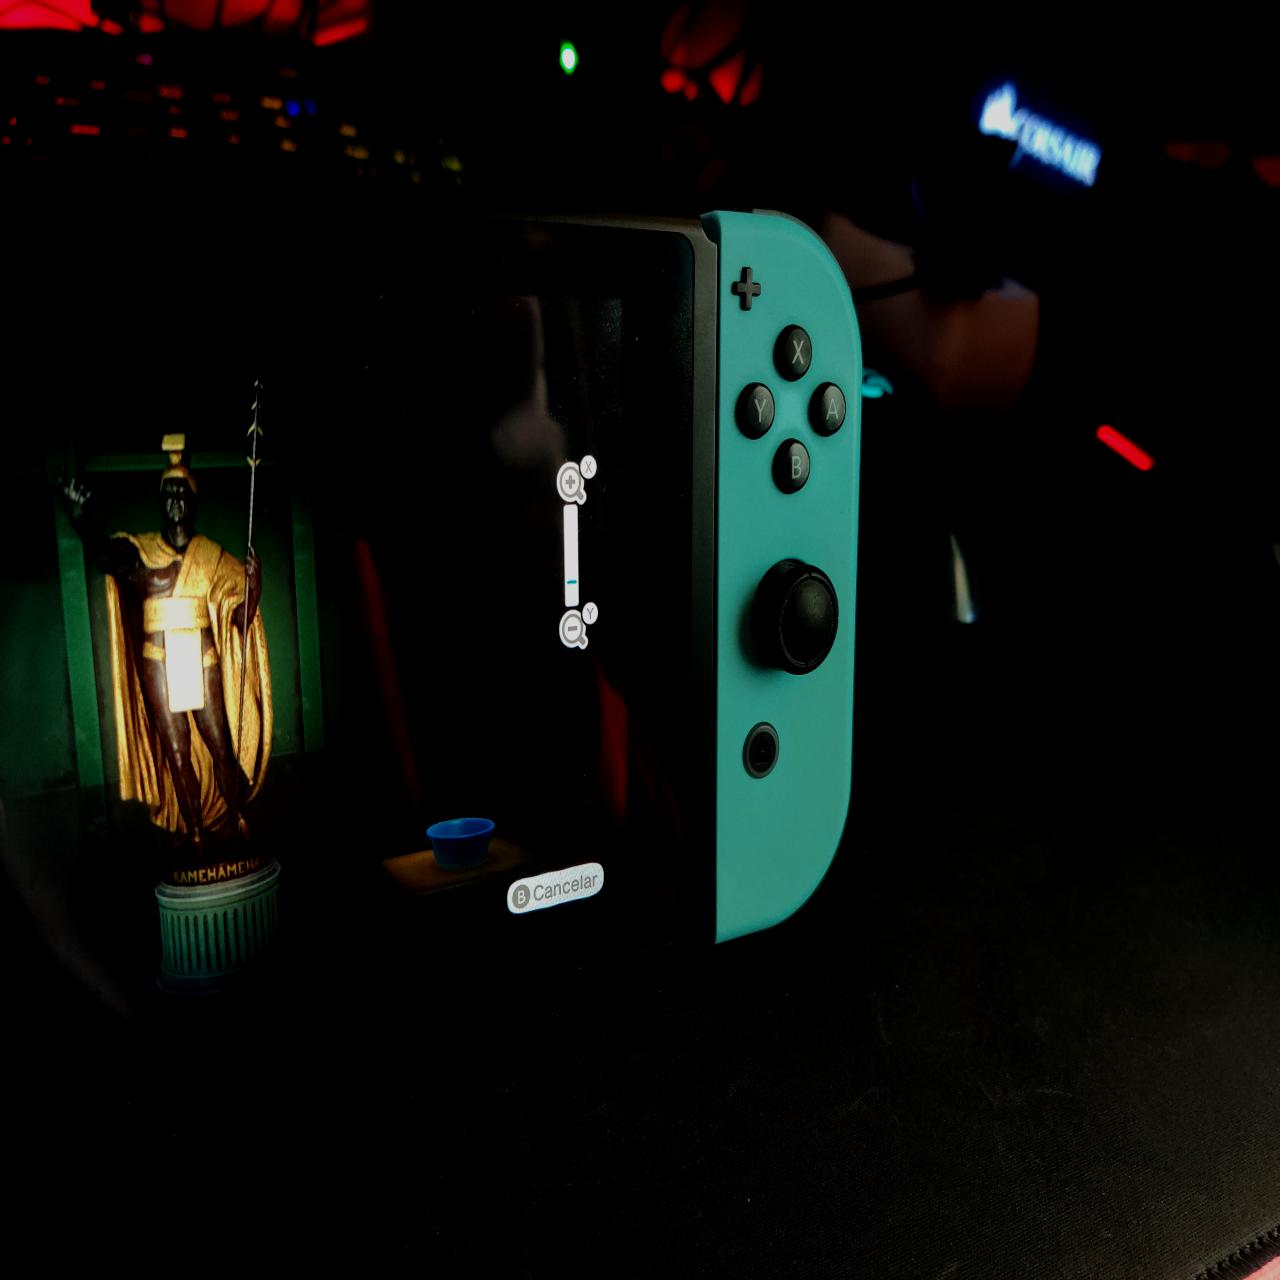Kamehameha: (52, 358, 324, 897)
